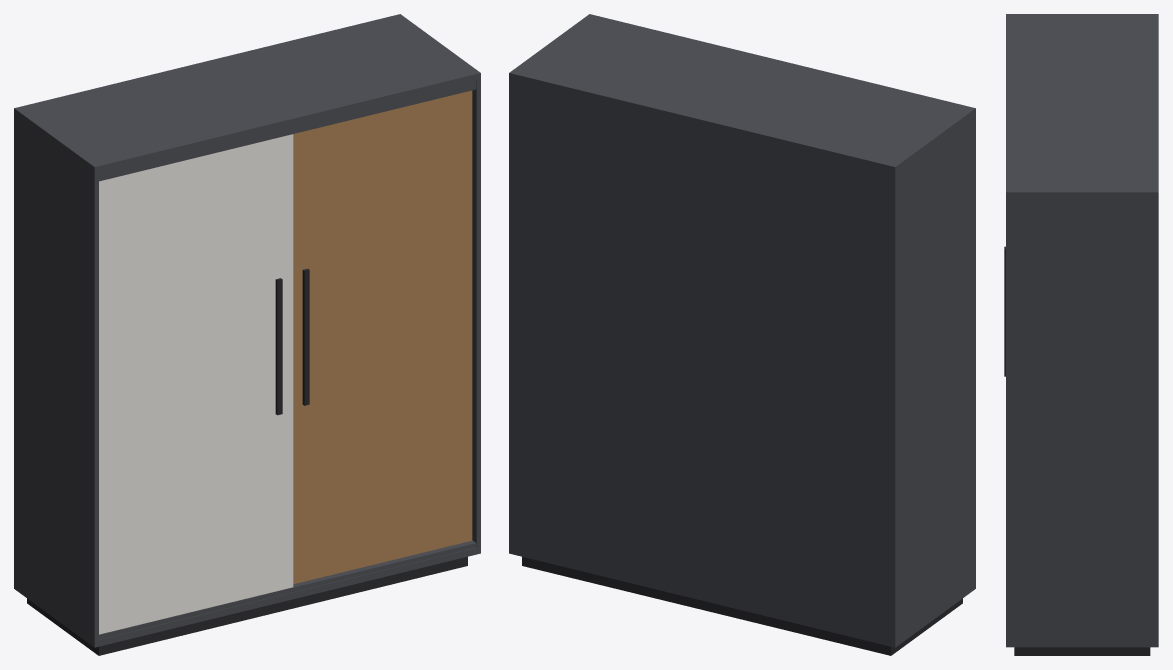
Rendered from FN_Wardrobe_Sliding.glb.
3 renders of one model, left to right at view 1: azimuth 30°, elevation 25°; view 2: azimuth 150°, elevation 25°; view 3: azimuth 270°, elevation 25°, orthographic. The views are drawn at different scales.
Visible parts, largest first — view 1: FN_Wardrobe_Sliding; view 2: FN_Wardrobe_Sliding; view 3: FN_Wardrobe_Sliding.
Boxes of the visible parts, box(x1,y1,x2,y2) form: FN_Wardrobe_Sliding: box(14, 14, 480, 655); FN_Wardrobe_Sliding: box(509, 14, 975, 655); FN_Wardrobe_Sliding: box(1004, 14, 1158, 655).
Bounding box in the file's own units: 1.8 × 2.2 × 0.657.
1 material, 1 textured.
